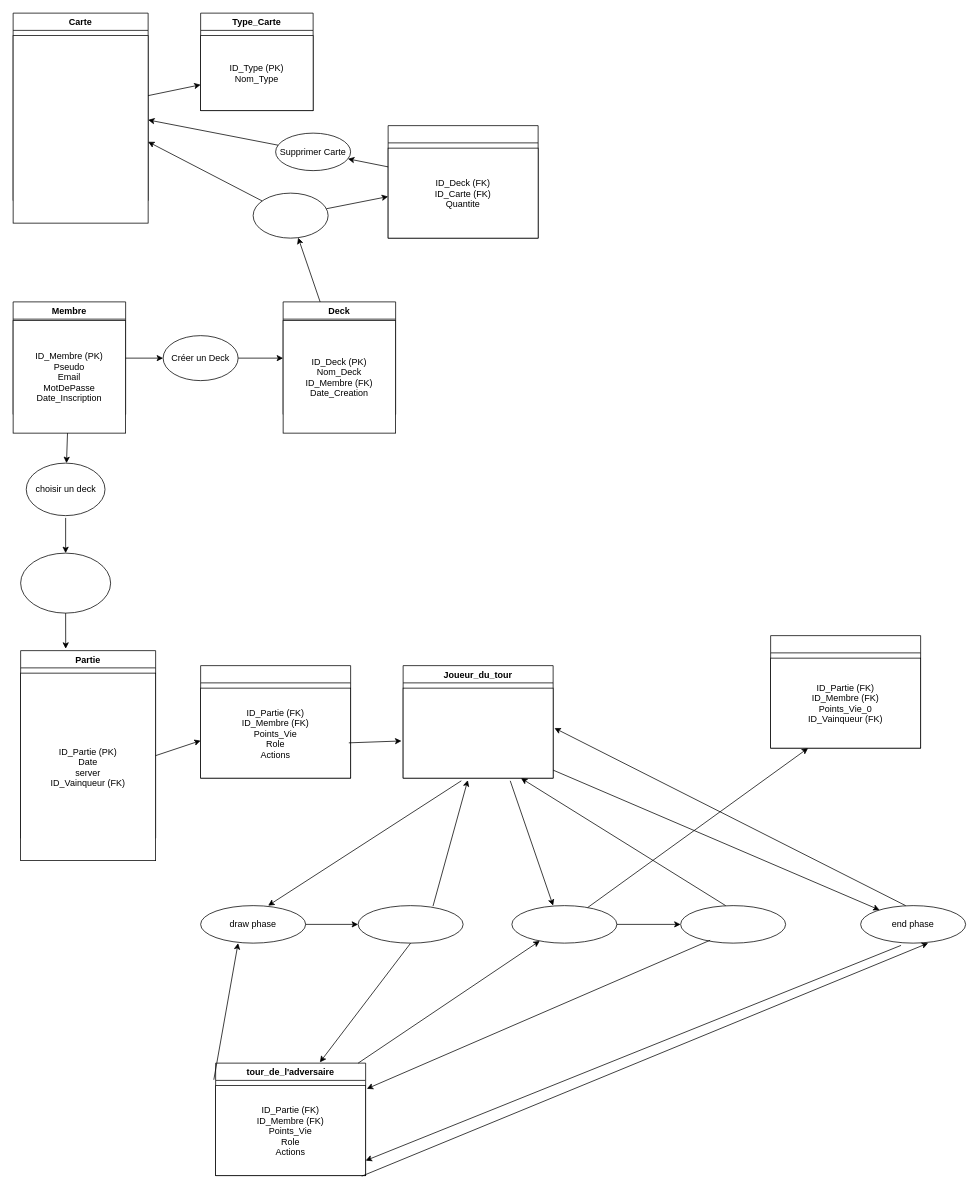
Image size: 979x1196. Some labels were removed from this diagram. The shapes that lost their labels are listed below. From the top down, each one's box as (x1, y1, x2, y2) in pixels, then its label:
(12, 35, 148, 223): ID_Carte (PK) Nom Niveau ATK DEF Effet Image ID_Type (FK)
(387, 125, 538, 238): Carte_Dans_Deck
(252, 192, 328, 238): Ajouter Carte
(20, 552, 111, 613): lancé une partie
(770, 635, 921, 748): fin_de_partie
(200, 665, 351, 778): Joueur_Dans_Partie
(402, 687, 553, 778): ID_Partie (FK) ID_Membre (FK) Points_Vie Actions phase
(357, 905, 463, 943): main phase
(511, 905, 617, 943): battle phase
(680, 905, 786, 943): main phase 2
